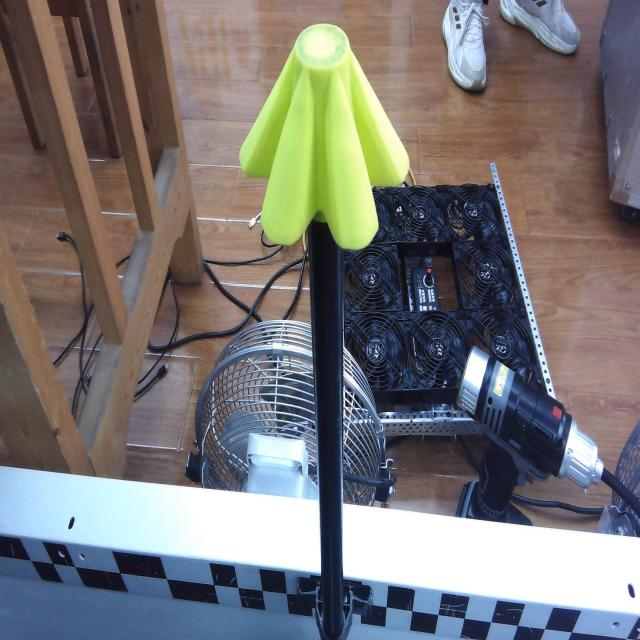Yellow-Stake-Head: (240, 22, 411, 254)
